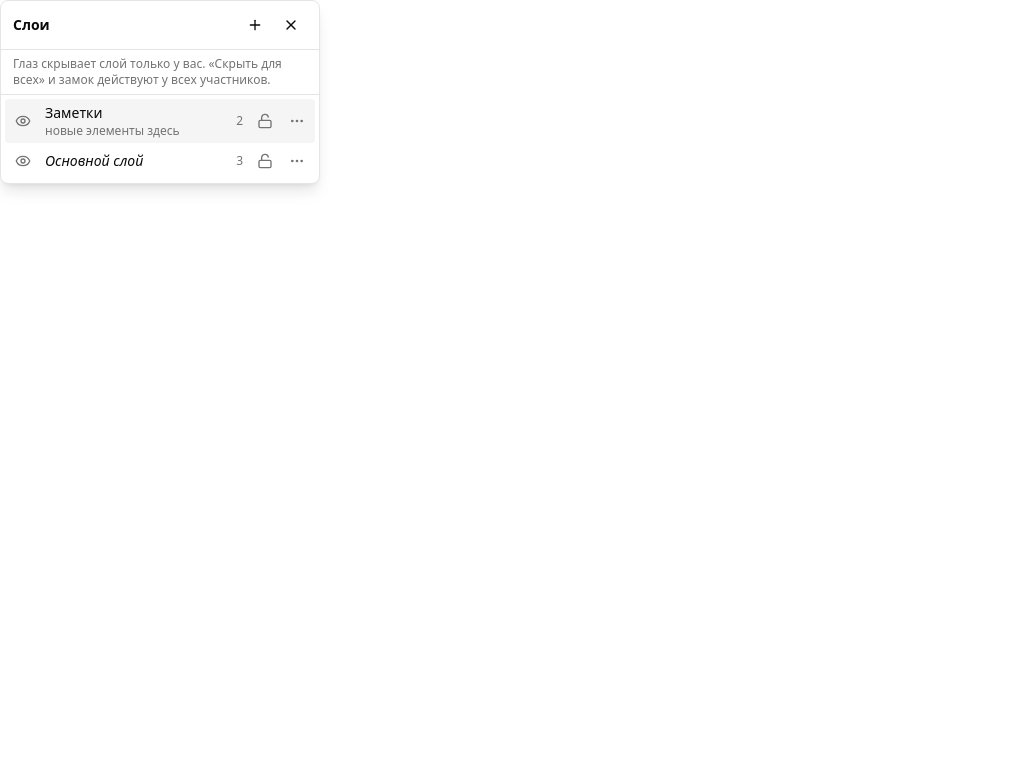
Test: LayersPanel › offers only moving the elements of a layer that holds a locked one
The image size is (1024, 768).
Click the button named "Действия со слоем «Заметки»" at point(297, 121), box [283,107,311,135]
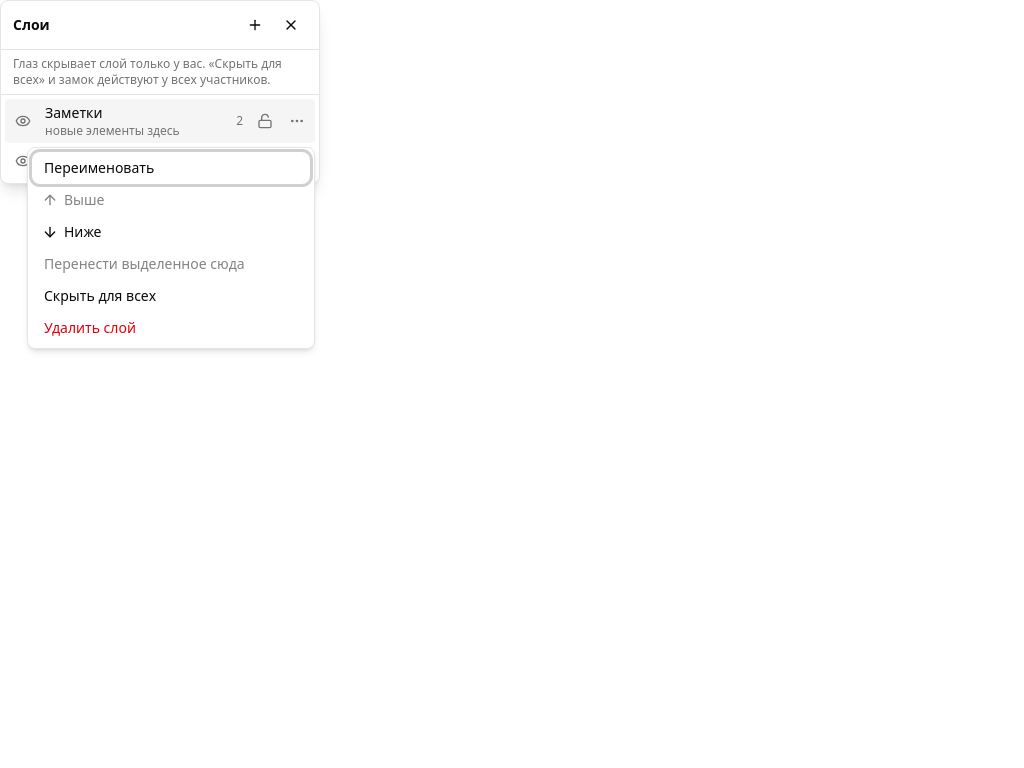
Click the menu item "Удалить слой" at point(90, 328), box [32,312,310,344]
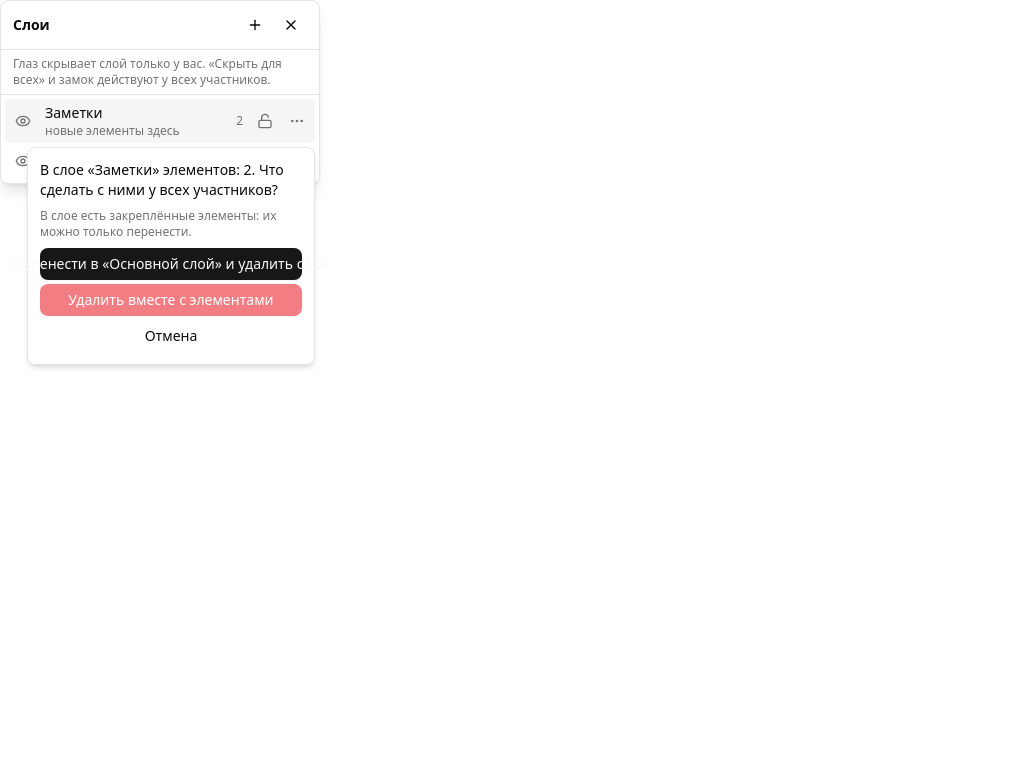
Expected: the button "Удалить вместе с элементами" is disabled, [40,284,302,316]
Expected: the text "их можно только перенести" is shown, [40,207,276,240]
